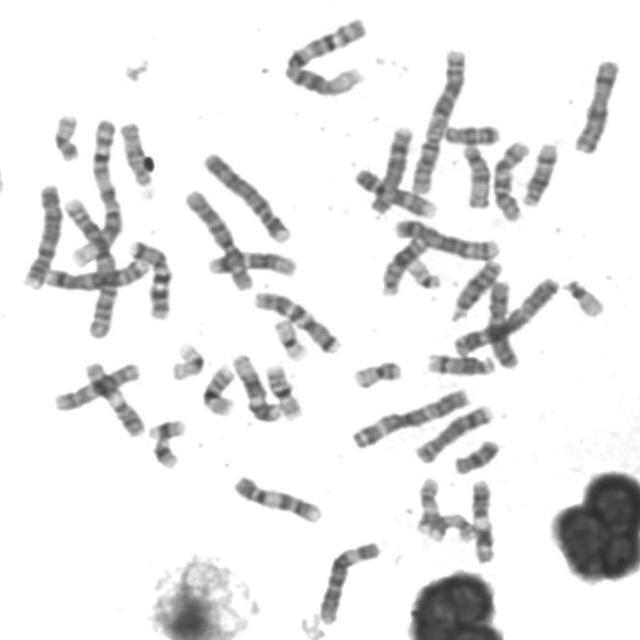A1: (64, 113, 124, 270), (278, 12, 371, 98)
A2: (406, 44, 468, 196), (59, 192, 120, 340)
A3: (449, 272, 562, 357), (347, 384, 474, 450)
B4: (199, 147, 293, 246), (17, 179, 64, 291)
B5: (389, 215, 501, 262), (40, 254, 152, 292)
C10: (49, 357, 142, 413), (487, 136, 532, 224)
C11: (79, 357, 146, 439), (467, 475, 498, 566)
C12: (228, 348, 284, 424), (202, 246, 300, 278)
C6: (180, 184, 256, 294), (314, 537, 383, 626)
C7: (248, 287, 342, 356), (124, 235, 174, 321)
C8: (411, 400, 495, 465), (365, 120, 416, 217)
C9: (228, 471, 325, 526), (350, 164, 439, 219)
D13: (446, 256, 505, 323), (376, 231, 432, 298)
D14: (518, 137, 561, 208), (422, 348, 498, 378)
D15: (116, 117, 155, 188), (458, 140, 492, 210)
E16: (261, 360, 305, 421), (197, 360, 238, 417)
E17: (412, 472, 444, 540), (424, 509, 477, 544)
E18: (449, 434, 502, 476), (439, 120, 502, 146)
F19: (269, 314, 310, 363), (166, 338, 206, 382)
F20: (349, 356, 404, 391), (48, 108, 82, 164)
G21: (148, 433, 181, 470), (144, 414, 187, 442)
G22: (559, 274, 608, 319), (403, 255, 443, 290)
X: (569, 53, 623, 156), (483, 276, 523, 370)
